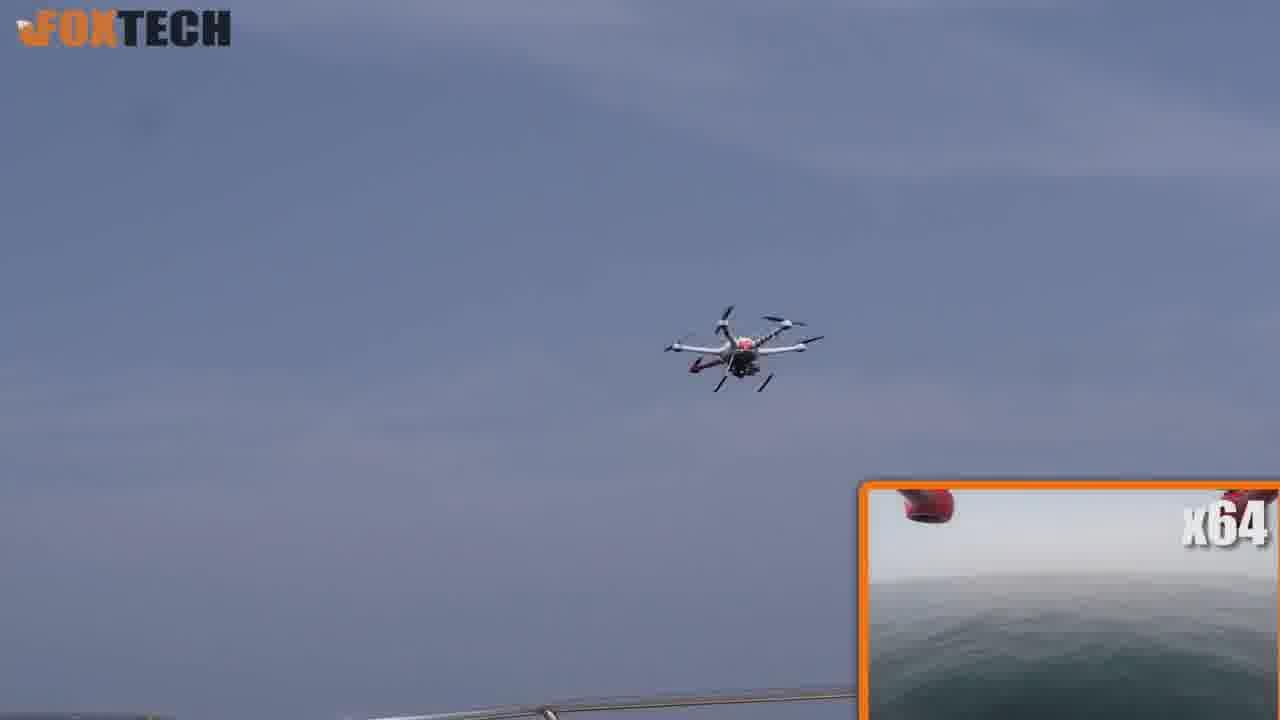drone: (665, 301, 828, 401)
